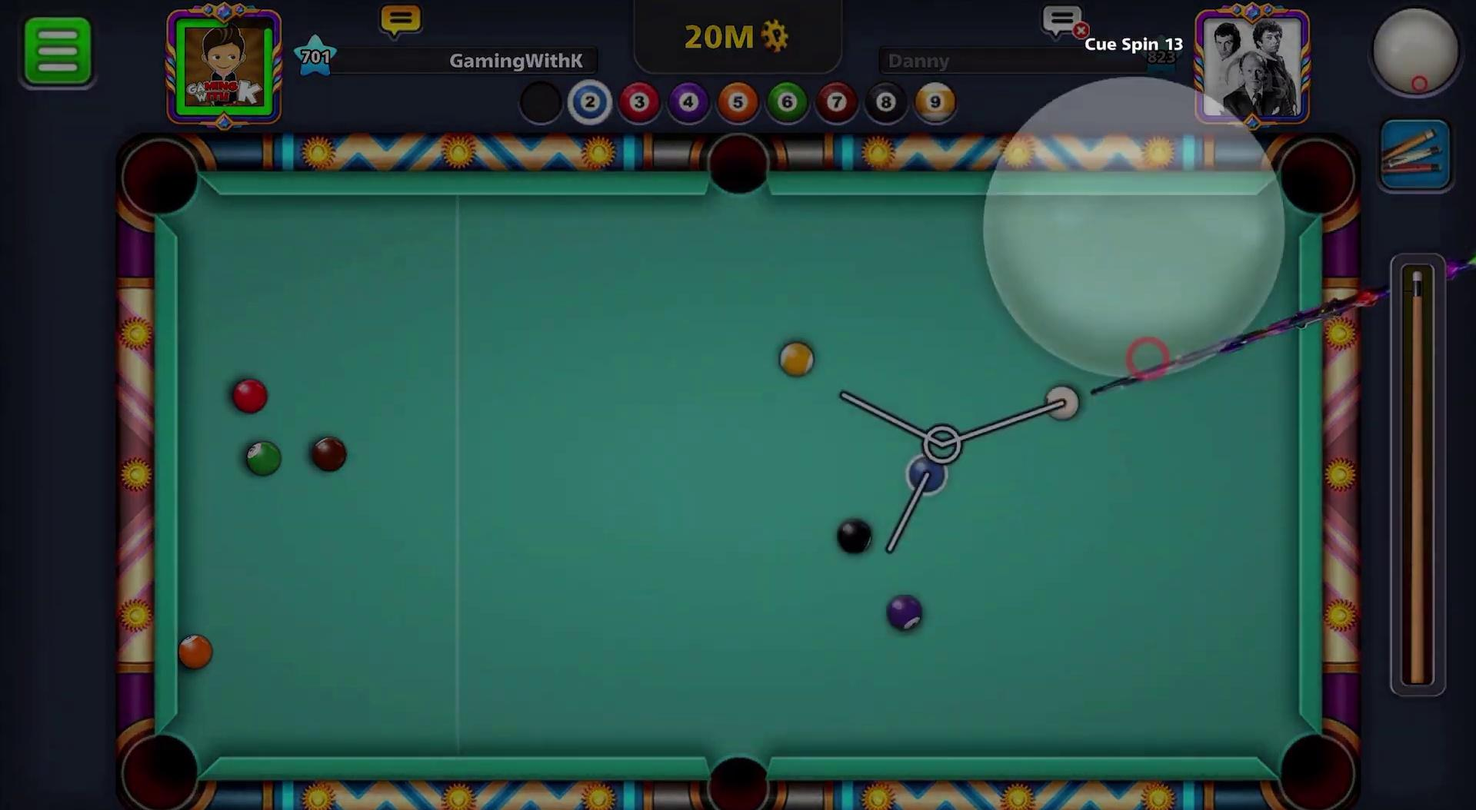Ball: (875, 587, 931, 639), (901, 448, 951, 500), (773, 334, 824, 384), (828, 510, 879, 560), (229, 369, 272, 418), (175, 629, 217, 672), (305, 433, 348, 473), (242, 437, 284, 477)
Force: (1385, 249, 1453, 699)
Guideline: (839, 386, 1079, 553)
Hole: (1263, 128, 1367, 231), (108, 129, 213, 230), (110, 712, 215, 809), (1265, 717, 1363, 809), (692, 124, 784, 207), (686, 734, 785, 809)
Play_Area: (177, 193, 1296, 756)
Spin: (979, 68, 1292, 384), (1343, 0, 1475, 117)
White: (1040, 374, 1086, 425)
